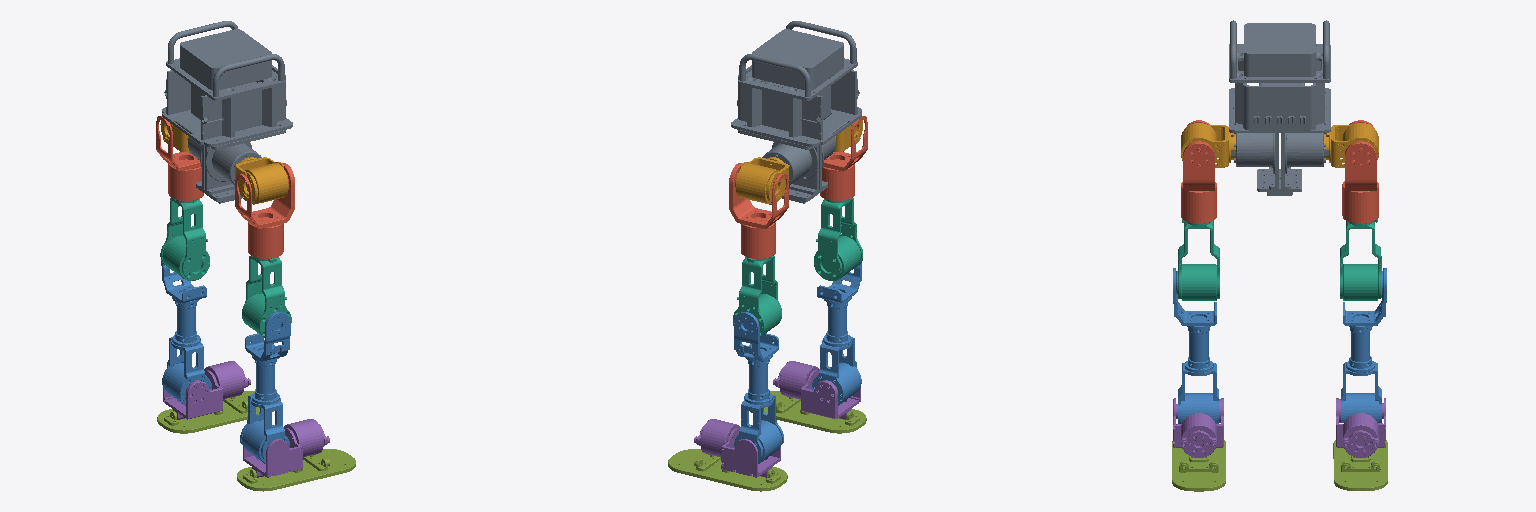
robot.urdf — w1196_mass_serial_candidate:
<?xml version="1.0"?>
<!-- Serial equivalent candidate with supplied masses and approximate distribution. Unknown mechanical limits: unlimited joints are placeholders, not a hardware capability. No collisions or actuators. Four 5 g ankle rods contribute half mass and half full-shape inertia to each adjacent Link5/6; their visuals are omitted. Joint6 is the foot support axis, not the physical motor6 axis. Not training/deployment ready. -->
<robot name="w1196_mass_serial_candidate">
  <mujoco>
    <compiler discardvisual="false" strippath="false" fusestatic="false" inertiafromgeom="false" />
  </mujoco>
  <link name="base">
    <inertial>
      <origin xyz="0.001311546152755235 0.008184832988821071 0.06444376579446" rpy="0 0 0" />
      <mass value="4.462000000000001" />
      <inertia ixx="0.02607940086791063" iyy="0.0236261825528591" izz="0.01067647350301191" ixy="6.388923588345428e-06" ixz="-0.0001954442494219474" iyz="-0.0001235184789469238" />
    </inertial>
    <visual name="base_visual">
      <origin xyz="0 0 0" rpy="0 0 0" />
      <geometry>
        <mesh filename="meshes/base.stl" scale="1 1 1" />
      </geometry>
      <material name="base_color">
        <color rgba="0.4823529411764706 0.5294117647058824 0.5803921568627451 1" />
      </material>
    </visual>
  </link>
  <link name="Link_R1">
    <inertial>
      <origin xyz="-0.001731789476731765 -0.07789059396692577 4.113476528994694e-05" rpy="0 0 0" />
      <mass value="0.5233527419274361" />
      <inertia ixx="0.0003582130801425279" iyy="0.0002561161944667759" izz="0.000411118822251735" ixy="6.848880413154678e-07" ixz="-3.50573806984792e-07" iyz="-1.834293638891301e-06" />
    </inertial>
    <visual name="Link_R1_visual">
      <origin xyz="0 0 0" rpy="0 0 0" />
      <geometry>
        <mesh filename="meshes/Link_R1.stl" scale="1 1 1" />
      </geometry>
      <material name="Link_R1_color">
        <color rgba="0.8313725490196079 0.6078431372549019 0.2235294117647059 1" />
      </material>
    </visual>
  </link>
  <link name="Link_R2">
    <inertial>
      <origin xyz="0.004390563796393174 2.387062672526419e-09 -0.07513064172299261" rpy="0 0 0" />
      <mass value="0.5551540310987855" />
      <inertia ixx="0.0007535684341087733" iyy="0.0008646327077814207" izz="0.0003385751736074426" ixy="8.860882365484056e-11" ixz="-0.0001457278691822788" iyz="2.275883381590696e-11" />
    </inertial>
    <visual name="Link_R2_visual">
      <origin xyz="0 0 0" rpy="0 0 0" />
      <geometry>
        <mesh filename="meshes/Link_R2.stl" scale="1 1 1" />
      </geometry>
      <material name="Link_R2_color">
        <color rgba="0.8784313725490196 0.4235294117647059 0.3411764705882353 1" />
      </material>
    </visual>
  </link>
  <link name="Link_R3">
    <inertial>
      <origin xyz="5.118034619443516e-07 0.0001383376466927849 -0.09607529632432829" rpy="0 0 0" />
      <mass value="0.5365901536600597" />
      <inertia ixx="0.000858877808690079" iyy="0.0007808097465560128" izz="0.000278077326076354" ixy="5.717959717365896e-11" ixz="5.994262665220275e-10" iyz="6.500442331546934e-06" />
    </inertial>
    <visual name="Link_R3_visual">
      <origin xyz="0 0 0" rpy="0 0 0" />
      <geometry>
        <mesh filename="meshes/Link_R3.stl" scale="1 1 1" />
      </geometry>
      <material name="Link_R3_color">
        <color rgba="0.2352941176470588 0.6666666666666666 0.5725490196078431 1" />
      </material>
    </visual>
  </link>
  <link name="Link_R4">
    <inertial>
      <origin xyz="-5.177772282975588e-07 -0.003945725905297029 -0.1708198407587629" rpy="0 0 0" />
      <mass value="0.7011540310987853" />
      <inertia ixx="0.004004916636731645" iyy="0.003872703011849385" izz="0.0003829514345940063" ixy="8.43603670460903e-11" ixz="-4.987461700261894e-10" iyz="0.0002820119987104675" />
    </inertial>
    <visual name="Link_R4_visual">
      <origin xyz="0 0 0" rpy="0 0 0" />
      <geometry>
        <mesh filename="meshes/Link_R4.stl" scale="1 1 1" />
      </geometry>
      <material name="Link_R4_color">
        <color rgba="0.3294117647058823 0.5607843137254902 0.7843137254901961 1" />
      </material>
    </visual>
  </link>
  <link name="Link_R5">
    <inertial>
      <origin xyz="0.0486708055372131 0.001789072597032357 -0.01560582680199324" rpy="0 0 0" />
      <mass value="0.5683080621975707" />
      <inertia ixx="0.0004194501461699472" iyy="0.0007800621324809716" izz="0.0008448113223529265" ixy="4.744981812912556e-05" ixz="-9.066706942641594e-05" iyz="-1.321591132929411e-05" />
    </inertial>
    <visual name="Link_R5_visual">
      <origin xyz="0 0 0" rpy="0 0 0" />
      <geometry>
        <mesh filename="meshes/Link_R5.stl" scale="1 1 1" />
      </geometry>
      <material name="Link_R5_color">
        <color rgba="0.6039215686274509 0.4549019607843137 0.7333333333333333 1" />
      </material>
    </visual>
  </link>
  <link name="Link_R6">
    <inertial>
      <origin xyz="0.05680809167050895 -9.669667844214302e-12 -0.01066791330438788" rpy="0 0 0" />
      <mass value="0.3" />
      <inertia ixx="0.0001659828081445008" iyy="0.00087892780908664" izz="0.00102713232447288" ixy="1.073739058244109e-13" ixz="-6.272115355006514e-06" iyz="2.260267185683106e-14" />
    </inertial>
    <visual name="Link_R6_visual">
      <origin xyz="0 0 0" rpy="0 0 0" />
      <geometry>
        <mesh filename="meshes/Link_R6.stl" scale="1 1 1" />
      </geometry>
      <material name="Link_R6_color">
        <color rgba="0.5607843137254902 0.6705882352941176 0.3137254901960784 1" />
      </material>
    </visual>
  </link>
  <link name="Link_L1">
    <inertial>
      <origin xyz="-0.001947001459798387 0.07789933399858653 4.113501054479035e-05" rpy="0 0 0" />
      <mass value="0.52335272582709" />
      <inertia ixx="0.0003582160628454823" iyy="0.0002561131853922171" izz="0.0004111188038821091" ixy="-4.028283754489905e-07" ixz="-3.556402641481541e-07" iyz="1.833323081431891e-06" />
    </inertial>
    <visual name="Link_L1_visual">
      <origin xyz="0 0 0" rpy="0 0 0" />
      <geometry>
        <mesh filename="meshes/Link_L1.stl" scale="1 1 1" />
      </geometry>
      <material name="Link_L1_color">
        <color rgba="0.8313725490196079 0.6078431372549019 0.2235294117647059 1" />
      </material>
    </visual>
  </link>
  <link name="Link_L2">
    <inertial>
      <origin xyz="0.004404364981875374 1.217224169594577e-05 -0.07513064548391389" rpy="0 0 0" />
      <mass value="0.5551540310987855" />
      <inertia ixx="0.0007535690642515051" iyy="0.0008646316555480233" izz="0.0003385751937382929" ixy="-3.067560801116176e-07" ixz="-0.0001457272963299569" iyz="-4.026254526900662e-07" />
    </inertial>
    <visual name="Link_L2_visual">
      <origin xyz="0 0 0" rpy="0 0 0" />
      <geometry>
        <mesh filename="meshes/Link_L2.stl" scale="1 1 1" />
      </geometry>
      <material name="Link_L2_color">
        <color rgba="0.8784313725490196 0.4235294117647059 0.3411764705882353 1" />
      </material>
    </visual>
  </link>
  <link name="Link_L3">
    <inertial>
      <origin xyz="8.939839874908461e-07 -0.0001383445396463678 -0.0960752840108053" rpy="0 0 0" />
      <mass value="0.5365901546665754" />
      <inertia ixx="0.0008588777147758481" iyy="0.0007808108531930358" izz="0.0002780773248713863" ixy="2.156112496379684e-07" ixz="1.855861566543155e-08" iyz="-6.500432945112204e-06" />
    </inertial>
    <visual name="Link_L3_visual">
      <origin xyz="0 0 0" rpy="0 0 0" />
      <geometry>
        <mesh filename="meshes/Link_L3.stl" scale="1 1 1" />
      </geometry>
      <material name="Link_L3_color">
        <color rgba="0.2352941176470588 0.6666666666666666 0.5725490196078431 1" />
      </material>
    </visual>
  </link>
  <link name="Link_L4">
    <inertial>
      <origin xyz="-1.141924561192298e-05 0.003945706037208702 -0.1708198528873571" rpy="0 0 0" />
      <mass value="0.7011540310987854" />
      <inertia ixx="0.004004913510379201" iyy="0.003872701931520562" izz="0.0003829514533629364" ixy="3.651915223414464e-07" ixz="7.787116907269639e-07" iyz="-0.0002820104473526872" />
    </inertial>
    <visual name="Link_L4_visual">
      <origin xyz="0 0 0" rpy="0 0 0" />
      <geometry>
        <mesh filename="meshes/Link_L4.stl" scale="1 1 1" />
      </geometry>
      <material name="Link_L4_color">
        <color rgba="0.3294117647058823 0.5607843137254902 0.7843137254901961 1" />
      </material>
    </visual>
  </link>
  <link name="Link_L5">
    <inertial>
      <origin xyz="0.04867556228784679 -0.001654608209141289 -0.0156058268019274" rpy="0 0 0" />
      <mass value="0.5683080621975707" />
      <inertia ixx="0.0004197150663153892" iyy="0.0007797972123893643" izz="0.0008448113223299656" ixy="-4.844531368609111e-05" ixz="-9.070323355165069e-05" iyz="1.296538480341408e-05" />
    </inertial>
    <visual name="Link_L5_visual">
      <origin xyz="0 0 0" rpy="0 0 0" />
      <geometry>
        <mesh filename="meshes/Link_L5.stl" scale="1 1 1" />
      </geometry>
      <material name="Link_L5_color">
        <color rgba="0.6039215686274509 0.4549019607843137 0.7333333333333333 1" />
      </material>
    </visual>
  </link>
  <link name="Link_L6">
    <inertial>
      <origin xyz="0.05682169301887194 0.0001569757387385184 -0.01066791330875627" rpy="0 0 0" />
      <mass value="0.3" />
      <inertia ixx="0.0001659882493063904" iyy="0.0008789223682702896" izz="0.001027132324832856" ixy="-1.9695684582097e-06" ixz="-6.272091388552784e-06" iyz="-1.732730270401076e-08" />
    </inertial>
    <visual name="Link_L6_visual">
      <origin xyz="0 0 0" rpy="0 0 0" />
      <geometry>
        <mesh filename="meshes/Link_L6.stl" scale="1 1 1" />
      </geometry>
      <material name="Link_L6_color">
        <color rgba="0.5607843137254902 0.6705882352941176 0.3137254901960784 1" />
      </material>
    </visual>
  </link>
  <joint name="joint_R1" type="continuous">
    <parent link="base" />
    <child link="Link_R1" />
    <origin xyz="3.250733016102e-15 -0.03170000000000001 -7.169376203819e-15" rpy="0 0 0" />
    <axis xyz="0 1 0" />
  </joint>
  <joint name="joint_R2" type="continuous">
    <parent link="Link_R1" />
    <child link="Link_R2" />
    <origin xyz="9.999999973017282e-05 -0.08689435624619021 4.65451635567403e-14" rpy="0 0 0" />
    <axis xyz="1 -1.201721881727291e-12 -1.020489248659828e-12" />
  </joint>
  <joint name="joint_R3" type="continuous">
    <parent link="Link_R2" />
    <child link="Link_R3" />
    <origin xyz="8.904671704862421e-14 3.418099137064701e-14 -0.1215000000000394" rpy="0 0 0" />
    <axis xyz="-8.226804654176687e-13 3.732691239433094e-14 1" />
  </joint>
  <joint name="joint_R4" type="continuous">
    <parent link="Link_R3" />
    <child link="Link_R4" />
    <origin xyz="5.220772591361743e-07 -3.418099137064701e-14 -0.1120000000001222" rpy="0 0 0" />
    <axis xyz="-8.079648061709575e-13 1 4.039086773377498e-14" />
  </joint>
  <joint name="joint_R5" type="continuous">
    <parent link="Link_R4" />
    <child link="Link_R5" />
    <origin xyz="-5.221045894395458e-07 0 -0.2209999999844697" rpy="0 0 0" />
    <axis xyz="4.842742873378825e-11 1 1.080902263662132e-11" />
  </joint>
  <joint name="joint_R6" type="continuous">
    <parent link="Link_R5" />
    <child link="Link_R6" />
    <origin xyz="2.72412602051646e-11 3.393313408039944e-12 -0.04999999999976518" rpy="0 0 0" />
    <axis xyz="1 -6.402126424712338e-13 -2.459174385492478e-13" />
  </joint>
  <joint name="joint_L1" type="continuous">
    <parent link="base" />
    <child link="Link_L1" />
    <origin xyz="-0.000107718151074424 0.04629707628935469 -7.169376203819e-15" rpy="0 0 0" />
    <axis xyz="-0.002762591649061026 0.9999961840364096 0" />
  </joint>
  <joint name="joint_L2" type="continuous">
    <parent link="Link_L1" />
    <child link="Link_L2" />
    <origin xyz="-0.0001539103241635637 0.08690808323034344 4.655926487271371e-14" rpy="0 0 0" />
    <axis xyz="0.9999961840364062 0.002762591650262745 -1.020489248659828e-12" />
  </joint>
  <joint name="joint_L3" type="continuous">
    <parent link="Link_L2" />
    <child link="Link_L3" />
    <origin xyz="1.381813896891555e-05 3.817398683270135e-08 -0.1215000000000394" rpy="0 0 0" />
    <axis xyz="-8.225746472856341e-13 -3.9603520116116e-14 1" />
  </joint>
  <joint name="joint_L4" type="continuous">
    <parent link="Link_L3" />
    <child link="Link_L4" />
    <origin xyz="5.220752668187441e-07 1.442320402000874e-09 -0.1120000000001222" rpy="0 0 0" />
    <axis xyz="-0.002762591648253098 0.9999961840364118 -4.039086773377497e-14" />
  </joint>
  <joint name="joint_L5" type="continuous">
    <parent link="Link_L4" />
    <child link="Link_L5" />
    <origin xyz="-5.221025971005534e-07 -1.442361063919151e-09 -0.2209999999844697" rpy="0 0 0" />
    <axis xyz="-0.00276259169748827 0.9999961840362758 -1.080902263662132e-11" />
  </joint>
  <joint name="joint_L6" type="continuous">
    <parent link="Link_L5" />
    <child link="Link_L6" />
    <origin xyz="-1.381811162926526e-05 -3.817733931765765e-08 -0.04999999999976529" rpy="0 0 0" />
    <axis xyz="0.9999961840364078 0.002762591649701237 -2.459174385492478e-13" />
  </joint>
</robot>

--- Facts derived from the render (not from the file) ---
3 views of the same robot in one strip: view 1: azimuth 30°, elevation 25°; view 2: azimuth 150°, elevation 25°; view 3: azimuth 270°, elevation 25° (orthographic).
Robot: w1196_mass_serial_candidate — 13 links, 12 joints (12 continuous); root link base; default pose: every joint at zero.
Visible links, largest first — view 1: base, Link_R4, Link_L4, Link_L3, Link_R2, Link_L5, Link_R5, Link_R3, Link_R6, Link_R1, Link_L2, Link_L6; view 2: base, Link_L4, Link_R4, Link_R3, Link_L2, Link_R5, Link_L5, Link_L3, Link_L6, Link_L1, Link_R2, Link_R6; view 3: base, Link_R4, Link_L4, Link_L2, Link_R2, Link_R3, Link_L3, Link_L6, Link_R6, Link_R5, Link_L5, Link_R1 (+1 smaller).
Boxes of the visible links, x1=… form: base: x1=162, y1=21, x2=292, y2=203; Link_R4: x1=240, y1=312, x2=290, y2=463; Link_L4: x1=161, y1=261, x2=211, y2=405; Link_L3: x1=160, y1=198, x2=209, y2=280; Link_R2: x1=235, y1=163, x2=294, y2=258; Link_L5: x1=163, y1=361, x2=250, y2=419; Link_R5: x1=243, y1=419, x2=329, y2=477; Link_R3: x1=242, y1=256, x2=291, y2=337; Link_R6: x1=237, y1=449, x2=355, y2=491; Link_R1: x1=235, y1=157, x2=288, y2=204; Link_L2: x1=156, y1=116, x2=203, y2=200; Link_L6: x1=157, y1=391, x2=274, y2=433; base: x1=731, y1=21, x2=861, y2=203; Link_L4: x1=734, y1=312, x2=783, y2=463; Link_R4: x1=812, y1=263, x2=861, y2=405; Link_R3: x1=814, y1=198, x2=862, y2=280; Link_L2: x1=729, y1=163, x2=788, y2=258; Link_R5: x1=773, y1=361, x2=860, y2=419; Link_L5: x1=694, y1=419, x2=780, y2=477; Link_L3: x1=733, y1=256, x2=781, y2=336; Link_L6: x1=668, y1=449, x2=787, y2=491; Link_L1: x1=736, y1=157, x2=788, y2=204; Link_R2: x1=820, y1=116, x2=867, y2=200; Link_R6: x1=749, y1=391, x2=866, y2=433; base: x1=1229, y1=20, x2=1330, y2=195; Link_R4: x1=1173, y1=268, x2=1218, y2=423; Link_L4: x1=1341, y1=268, x2=1386, y2=422; Link_L2: x1=1342, y1=120, x2=1378, y2=223; Link_R2: x1=1181, y1=120, x2=1216, y2=223; Link_R3: x1=1178, y1=219, x2=1219, y2=300; Link_L3: x1=1340, y1=219, x2=1381, y2=300; Link_L6: x1=1333, y1=440, x2=1387, y2=490; Link_R6: x1=1172, y1=440, x2=1225, y2=491; Link_R5: x1=1173, y1=398, x2=1223, y2=457; Link_L5: x1=1336, y1=398, x2=1385, y2=457; Link_R1: x1=1181, y1=123, x2=1235, y2=167.
Size in the robot's own frame: 0.2389 by 0.3371 by 0.7155 metres.
13 mesh visuals loaded from 13 distinct referenced files (13 binary STL).
